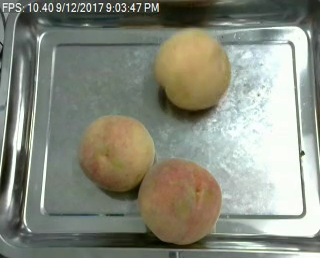Peach: (139, 156, 224, 244), (154, 26, 232, 110), (79, 116, 156, 193)
